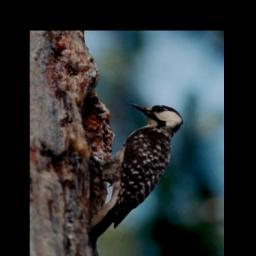Woodpecker: (81, 100, 194, 250)
